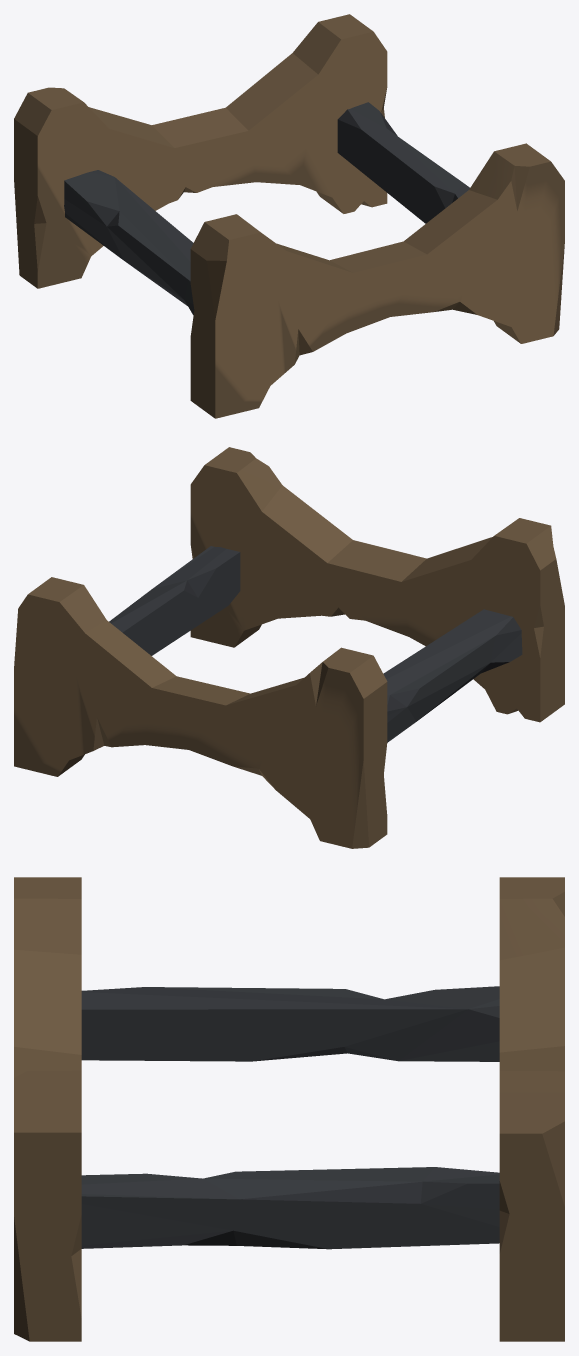
Rendered from SM_Prop_Barrel_Stand_01.fbx.
3 renders of one model, top to bottom at view 1: azimuth 30°, elevation 25°; view 2: azimuth 150°, elevation 25°; view 3: azimuth 270°, elevation 25°, orthographic. The views are drawn at different scales.
Parts seen in each view (by area): view 1: SM_Prop_Barrel_Stand_01; view 2: SM_Prop_Barrel_Stand_01; view 3: SM_Prop_Barrel_Stand_01.
Boxes of the visible parts, x1=… form: SM_Prop_Barrel_Stand_01: x1=14, y1=14, x2=564, y2=418; SM_Prop_Barrel_Stand_01: x1=14, y1=447, x2=564, y2=848; SM_Prop_Barrel_Stand_01: x1=14, y1=877, x2=564, y2=1341.
Bounding box in the file's own units: 161 × 77.03 × 160.
